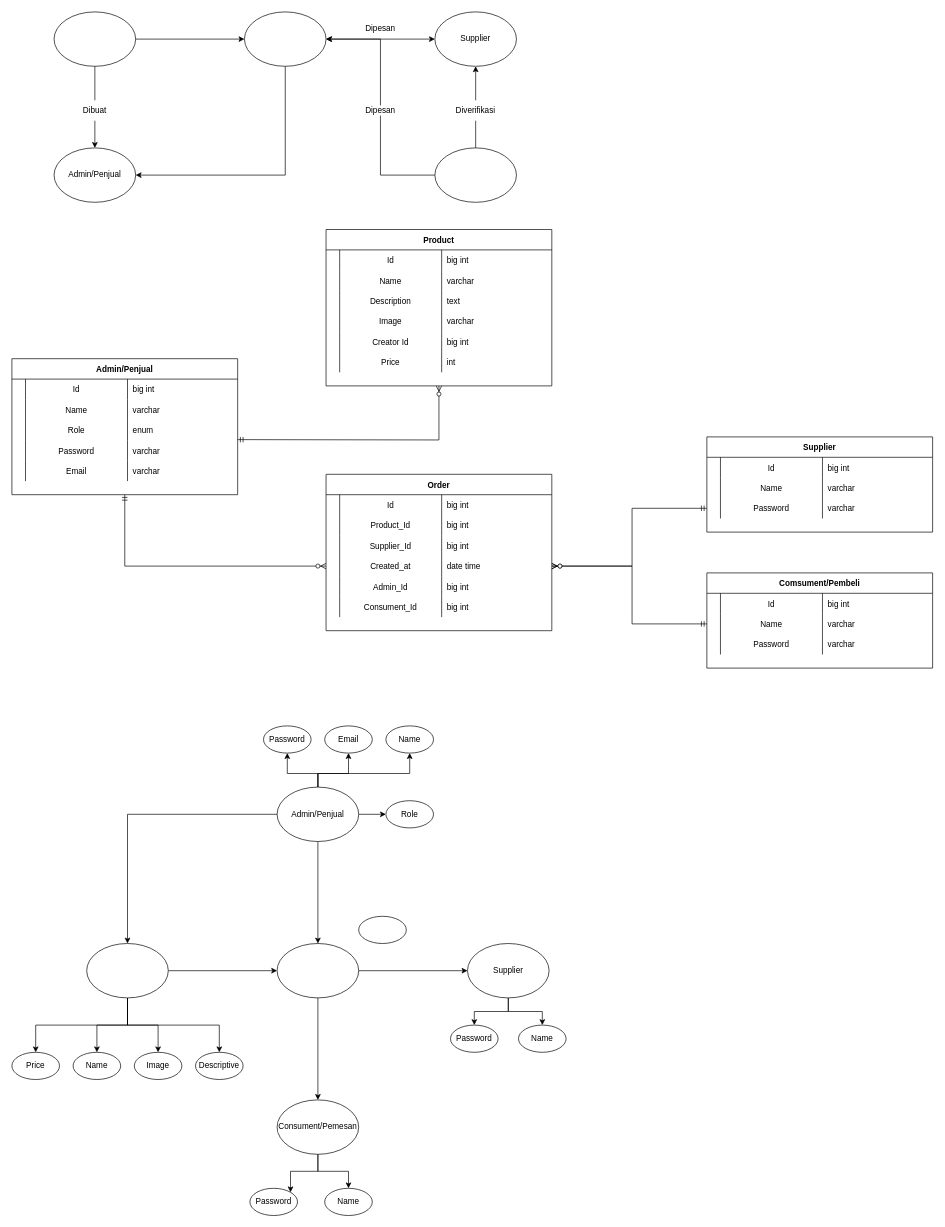
This 945x1227 diagram has some shape labels left out. The shapes that lost their labels are listed below. From the top down, each one's centre as x and y in pixels, then its label:
At point 94,38: "Produk".
At point 285,38: "Pesanan".
At point 475,174: "User/Pemesan".
At point 382,930: "Created".
At point 317,970: "Order/Pesanan".
